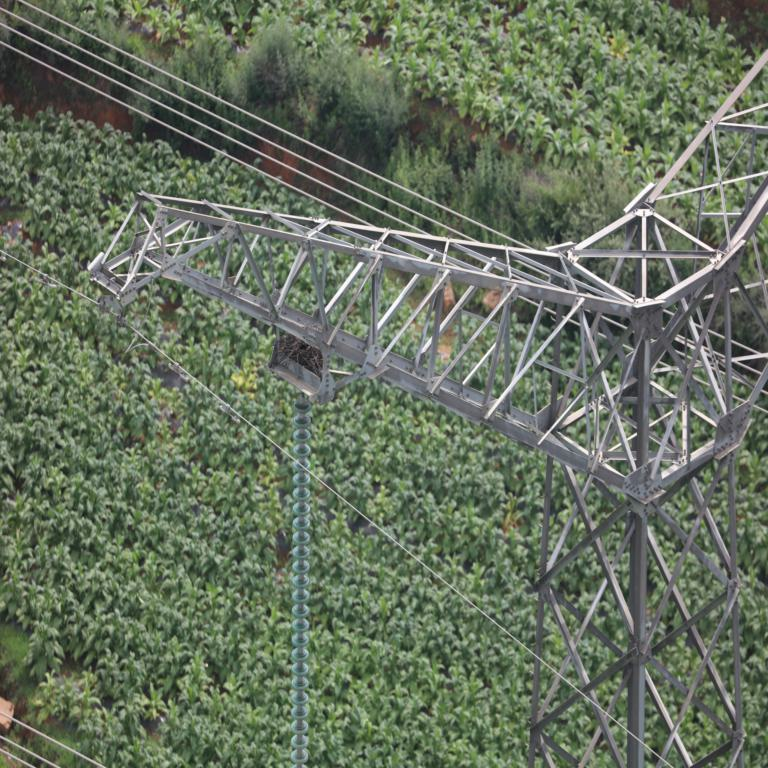nest: (275, 333, 325, 372)
